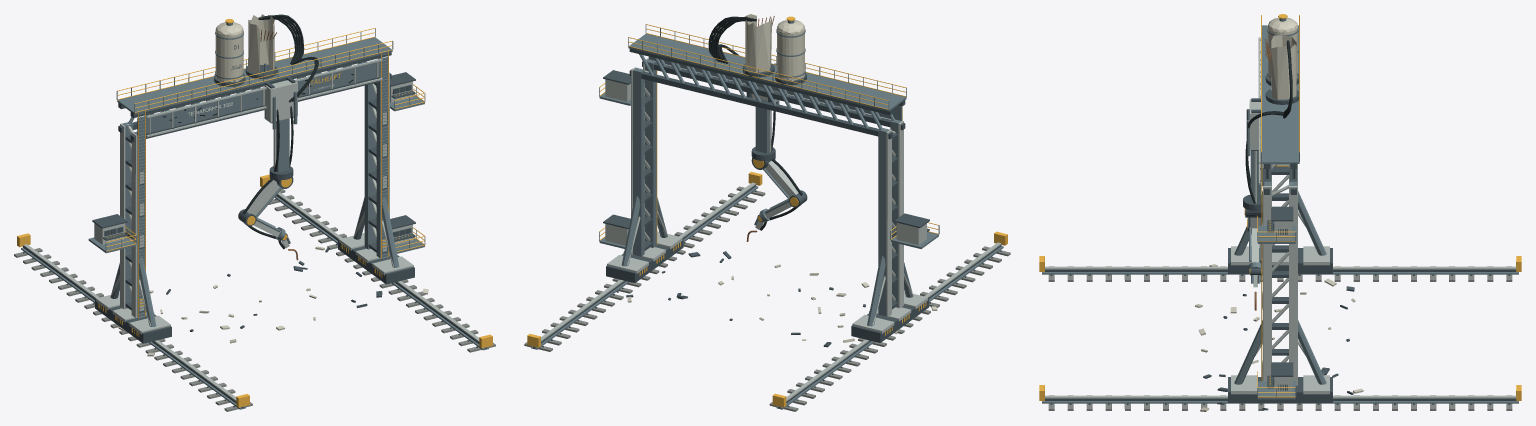
Rendered from terraformer_3000_d2_game.glb.
3 views of the same model, side by side, from view 1: azimuth 30°, elevation 25°; view 2: azimuth 150°, elevation 25°; view 3: azimuth 270°, elevation 25° (orthographic). The views are drawn at different scales.
Visible parts, largest first — view 1: Access ladder rung.260, Bogie armor.012, Column access cover.020, Rail sleeper.100, Access ladder stile.008, Rail running head.004, Dished pressure head.008, Torn reservoir shell, Rail flange.004, Rail web.004, Carriage plate.002, Armor impact gouge.008 (+6 smaller); view 2: Access ladder rung.260, Column access cover.020, Bogie armor.012, Rail sleeper.100, Access ladder stile.008, Rail running head.004, Dished pressure head.008, Torn reservoir shell, Rail flange.004, Rail web.004, Armor impact gouge.008, Rail stop.008 (+4 smaller); view 3: Bogie armor.012, Access ladder rung.260, Column access cover.020, Rail running head.004, Rail web.004, Rail sleeper.100, Rail flange.004, Torn reservoir shell, Dished pressure head.008, Access ladder stile.008, Console ledge.008, Console ledge.006 (+5 smaller).
Boxes of the visible parts, left/top/right/bottom form: Access ladder rung.260: left=111, top=28, right=399, bottom=326; Bogie armor.012: left=96, top=58, right=413, bottom=334; Column access cover.020: left=95, top=52, right=414, bottom=343; Rail sleeper.100: left=14, top=188, right=495, bottom=411; Access ladder stile.008: left=98, top=28, right=392, bottom=336; Rail running head.004: left=23, top=192, right=479, bottom=401; Dished pressure head.008: left=215, top=22, right=243, bottom=82; Torn reservoir shell: left=248, top=14, right=274, bottom=74; Rail flange.004: left=21, top=196, right=488, bottom=409; Rail web.004: left=23, top=195, right=486, bottom=407; Carriage plate.002: left=265, top=80, right=297, bottom=122; Armor impact gouge.008: left=162, top=14, right=353, bottom=122; Access ladder rung.260: left=621, top=24, right=912, bottom=326; Column access cover.020: left=606, top=48, right=928, bottom=342; Bogie armor.012: left=607, top=58, right=927, bottom=333; Rail sleeper.100: left=524, top=186, right=1010, bottom=411; Access ladder stile.008: left=628, top=24, right=926, bottom=335; Rail running head.004: left=541, top=182, right=1001, bottom=401; Dished pressure head.008: left=777, top=20, right=804, bottom=80; Torn reservoir shell: left=745, top=14, right=771, bottom=72; Rail flange.004: left=531, top=186, right=1003, bottom=409; Rail web.004: left=533, top=185, right=1001, bottom=407; Armor impact gouge.008: left=708, top=16, right=756, bottom=63; Rail stop.008: left=527, top=171, right=1007, bottom=407; Bogie armor.012: left=1231, top=37, right=1329, bottom=394; Access ladder rung.260: left=1234, top=25, right=1326, bottom=384; Column access cover.020: left=1228, top=39, right=1332, bottom=402; Rail running head.004: left=1045, top=266, right=1516, bottom=398; Rail web.004: left=1045, top=269, right=1516, bottom=410; Rail sleeper.100: left=1048, top=266, right=1512, bottom=410; Rail flange.004: left=1042, top=272, right=1518, bottom=403; Torn reservoir shell: left=1270, top=35, right=1297, bottom=99; Dished pressure head.008: left=1267, top=17, right=1297, bottom=80; Access ladder stile.008: left=1261, top=15, right=1299, bottom=381; Console ledge.008: left=1267, top=206, right=1293, bottom=234; Console ledge.006: left=1267, top=362, right=1293, bottom=390.
Size of the model in its own units: 42.09 by 35.97 by 50.59.
